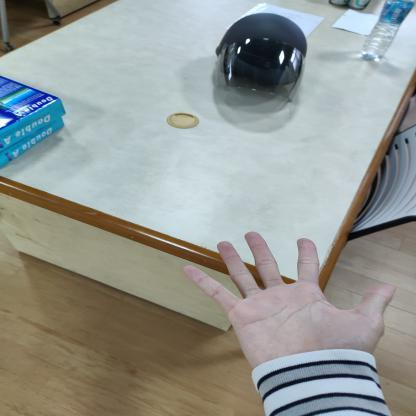bare_hand: (173, 223, 406, 386)
